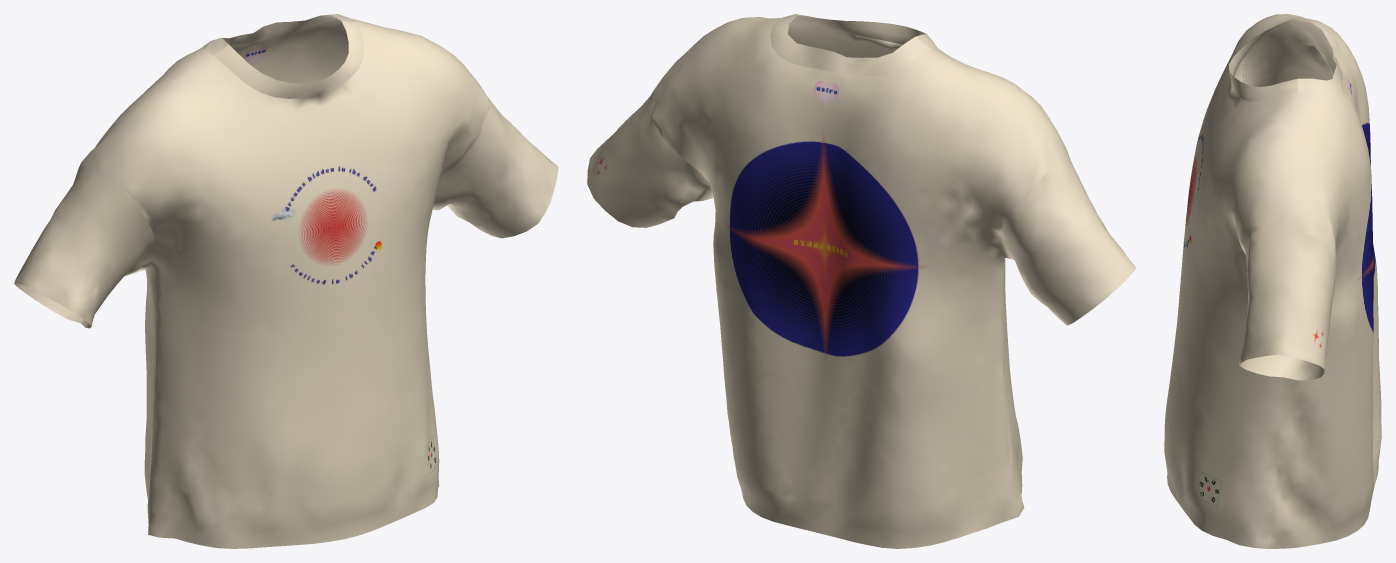
File: TEE_FINAL.gltf
3 views of the same model, side by side, from view 1: azimuth 30°, elevation 25°; view 2: azimuth 150°, elevation 25°; view 3: azimuth 270°, elevation 25° (orthographic). The views are drawn at different scales.
Visible parts, largest first — view 1: IN_THE_DARK_TEE_V1; view 2: IN_THE_DARK_TEE_V1; view 3: IN_THE_DARK_TEE_V1.
Part boxes in pixels (x1,y1,x2,y2): IN_THE_DARK_TEE_V1: (14, 14, 558, 548); IN_THE_DARK_TEE_V1: (587, 14, 1135, 548); IN_THE_DARK_TEE_V1: (1164, 14, 1381, 548).
Size of the model in its own units: 7.46 by 6.4 by 2.78.
1 material, 1 textured.
